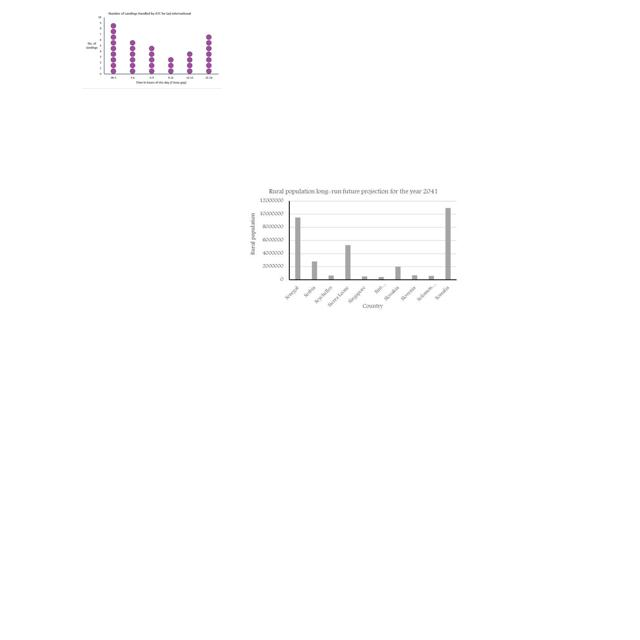Graph: (247, 185, 460, 310), (82, 7, 222, 89)
